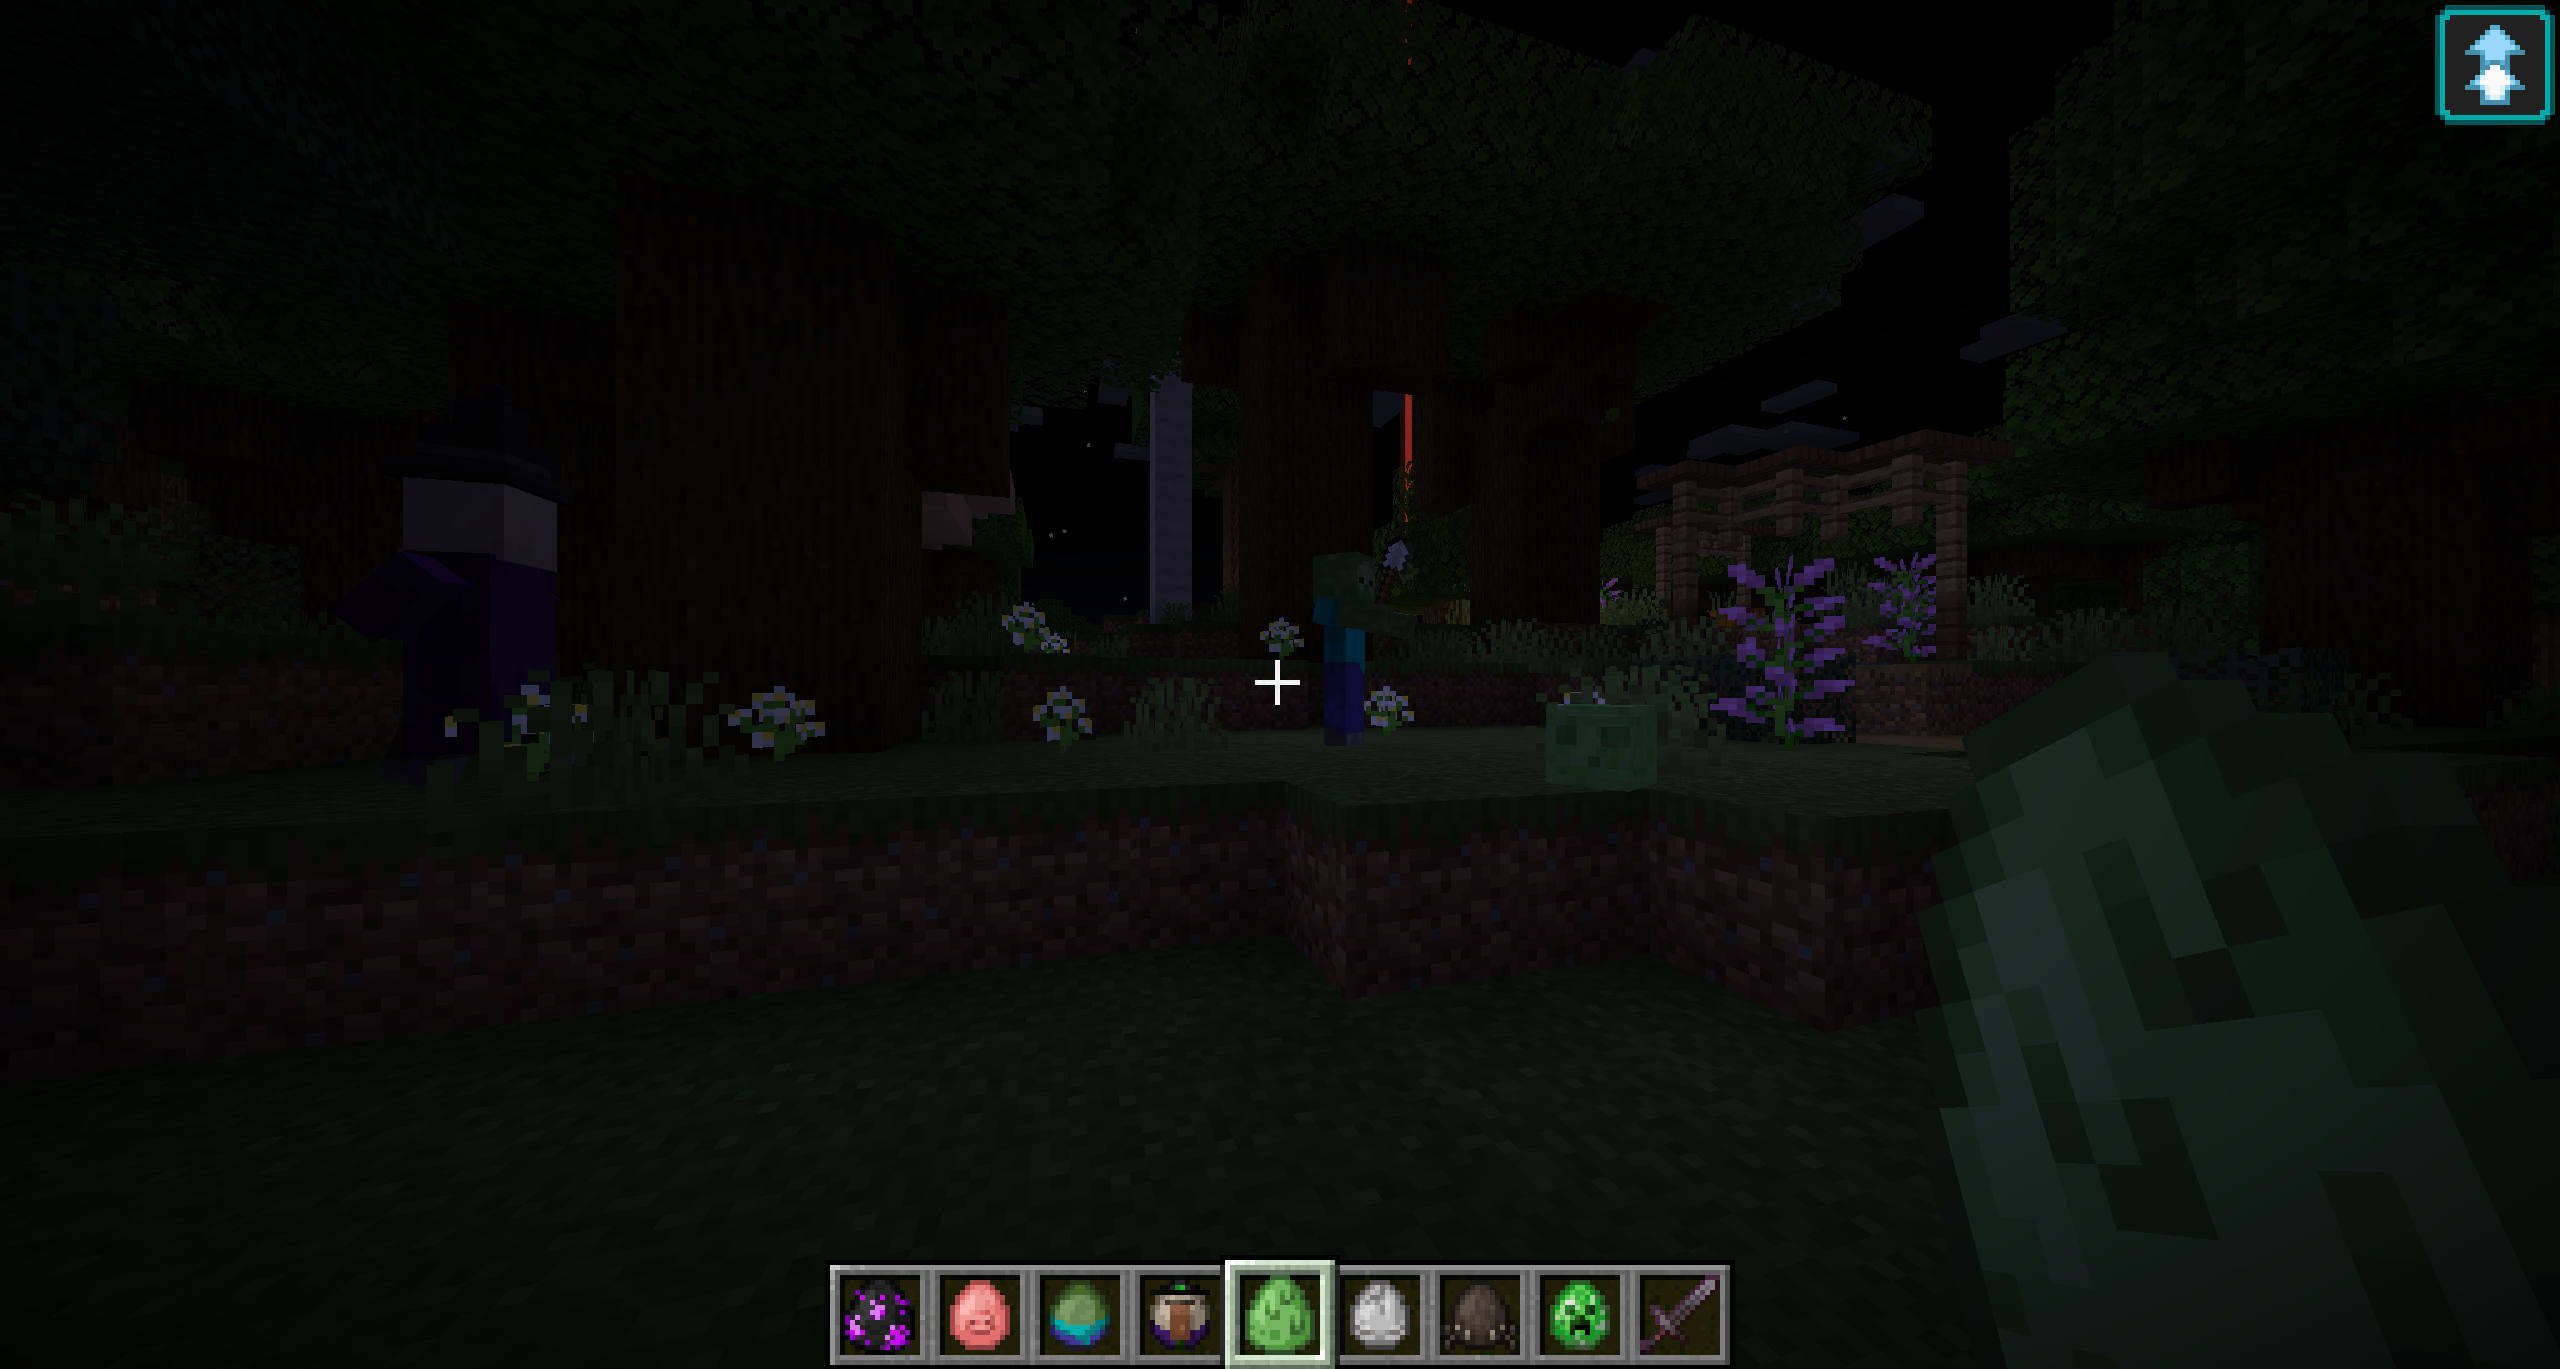slimes: (1546, 697, 1658, 799)
sorcieres: (393, 416, 566, 811)
zombies: (1300, 547, 1424, 751)
